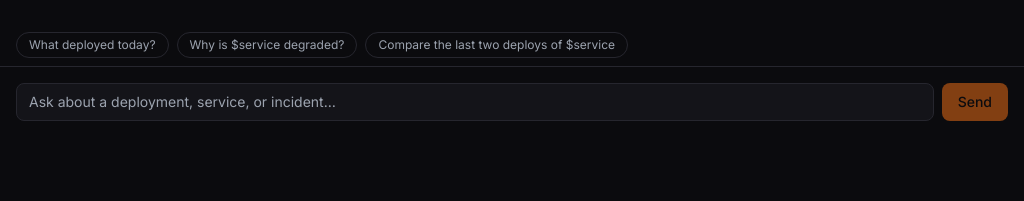
Test case: Chat page › shows an error banner when the chat service is unreachable
Step 1. Type "hello" into the field with placeholder "Ask about a deployment, service, or incident…" → (475, 102), box [16,83,934,121]
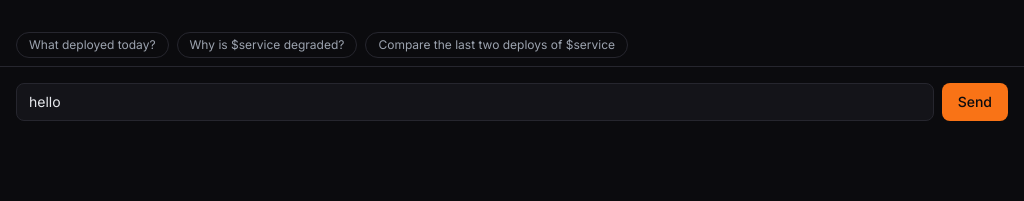
Step 2. Submit the form with placeholder "ask about", box [0,66,1023,137]
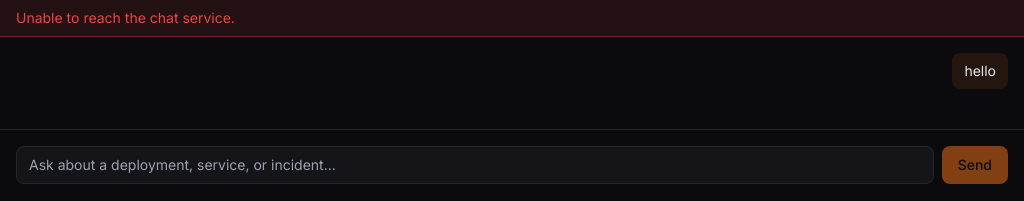
Now the text "Unable to reach the chat service." is shown, box [0,0,1023,37]
